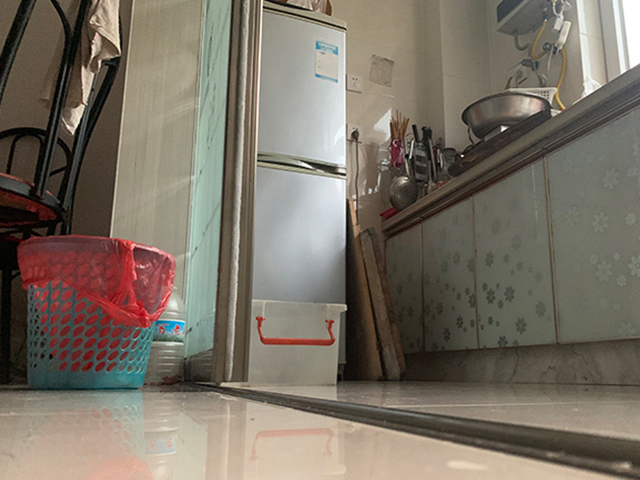cabinet: (385, 64, 640, 387)
trashcan: (18, 235, 177, 390)
